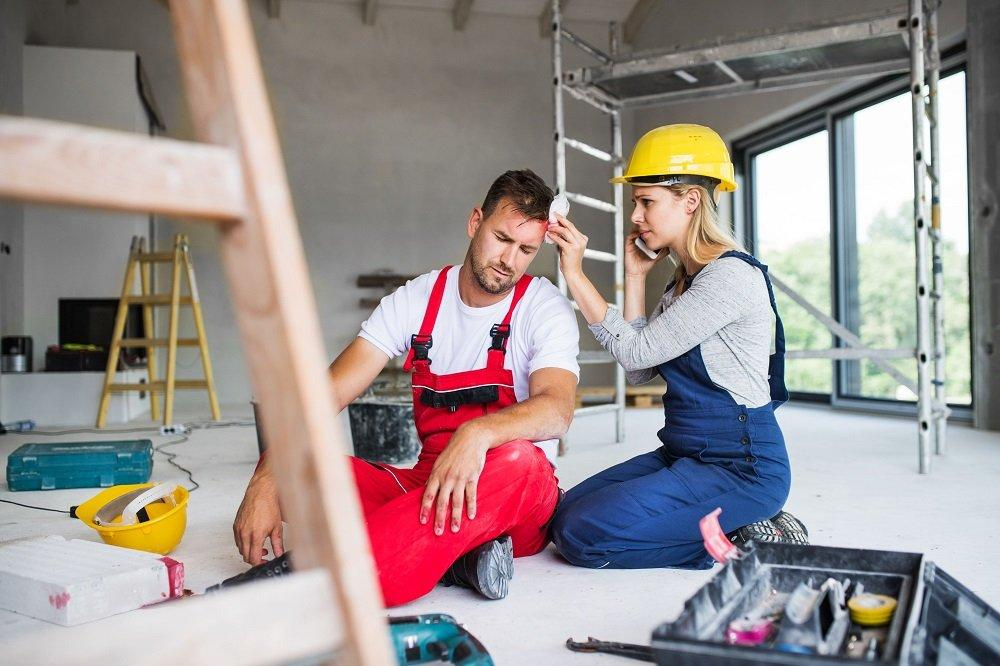helmet: (614, 122, 742, 191)
